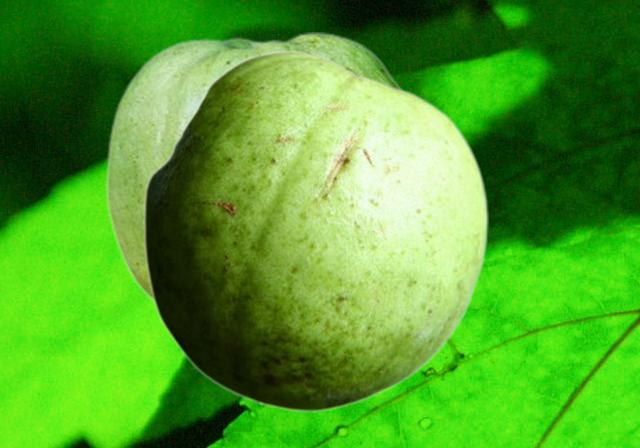guava: (143, 51, 487, 411), (105, 32, 406, 302)
